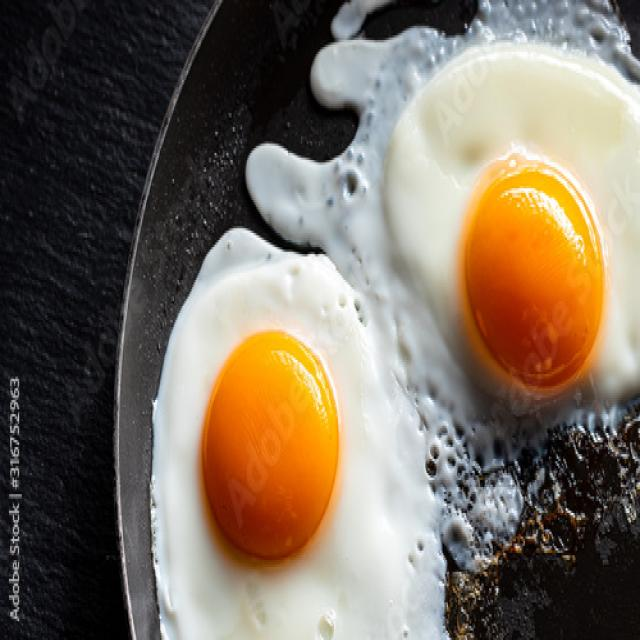Egg: (151, 230, 445, 638), (384, 46, 640, 401), (385, 46, 640, 399)
